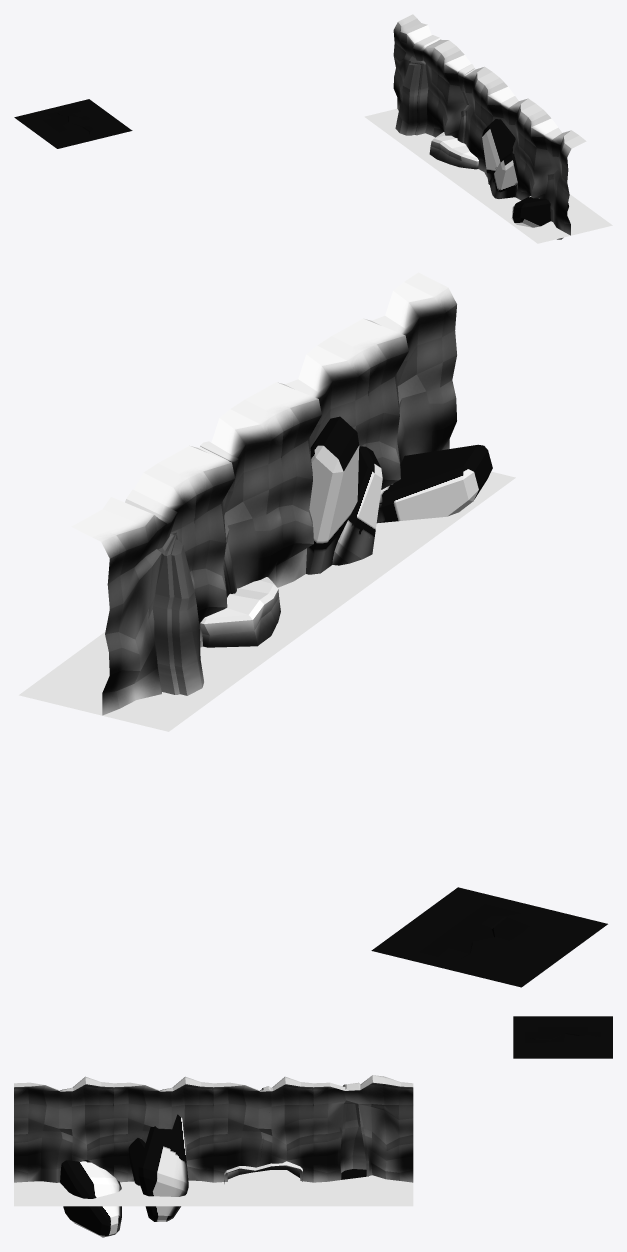
The model's file is Tiles_Volcanic.fbx.
3 renders of one model, top to bottom at view 1: azimuth 30°, elevation 25°; view 2: azimuth 150°, elevation 25°; view 3: azimuth 270°, elevation 25°, orthographic. The views are drawn at different scales.
Parts seen in each view (by area): view 1: V_Cliff.002, V_Cliff.003, V_Cliff, V_Cliff.001, V_vent, V_Cliff.005, V_Cliff.004; view 2: V_Cliff.003, V_Cliff.001, V_Cliff.002, V_Cliff, V_vent, V_Cliff.005, V_Cliff.004; view 3: V_Cliff.002, V_Cliff.003, V_Cliff, V_Cliff.001, V_vent, V_Cliff.005.
Part boxes in pixels (<box>): V_Cliff.002: <box>494,109,612,243</box>; V_Cliff.003: <box>451,78,542,211</box>; V_Cliff: <box>408,46,499,180</box>; V_Cliff.001: <box>364,14,455,148</box>; V_vent: <box>14,99,132,148</box>; V_Cliff.005: <box>410,35,441,135</box>; V_Cliff.004: <box>457,64,474,143</box>; V_Cliff.003: <box>245,336,428,604</box>; V_Cliff.001: <box>19,463,255,731</box>; V_Cliff.002: <box>332,272,515,540</box>; V_Cliff: <box>158,399,341,668</box>; V_vent: <box>371,887,607,987</box>; V_Cliff.005: <box>125,489,179,694</box>; V_Cliff.004: <box>200,441,238,593</box>; V_Cliff.002: <box>14,1076,121,1237</box>; V_Cliff.003: <box>113,1076,213,1221</box>; V_Cliff: <box>213,1076,313,1206</box>; V_Cliff.001: <box>313,1075,413,1206</box>; V_vent: <box>513,1016,612,1058</box>; V_Cliff.005: <box>338,1082,368,1176</box>.
Size of the model in its own units: 90 by 32.12 by 120.
2 materials, 2 textured.
